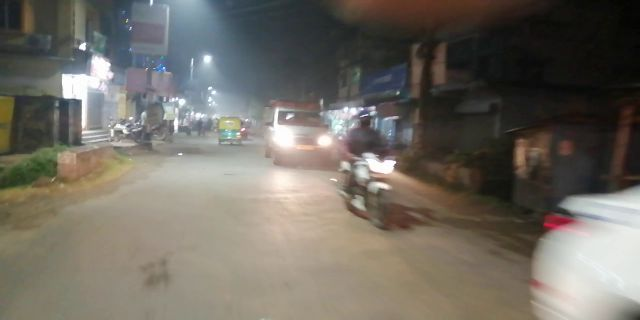Autorickshaw: (215, 112, 246, 148)
Minitruck: (264, 98, 339, 164)
Motorbike: (341, 104, 405, 236)
